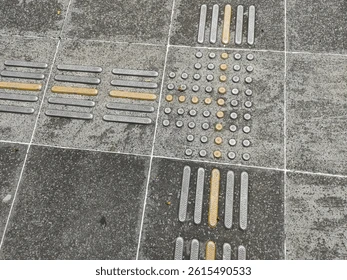piso_tatil: (1, 1, 267, 259)
piso_tatil_alerta: (162, 50, 263, 163)
piso_tatil_direcional: (169, 163, 260, 230), (37, 60, 107, 123), (100, 62, 164, 128), (189, 2, 263, 48), (1, 55, 42, 123)
piso_tatil_direcional_horizontal: (35, 58, 105, 121), (98, 60, 162, 126), (3, 57, 44, 125)
piso_tatil_direcional_vertical: (167, 161, 258, 228), (187, 1, 261, 46)
